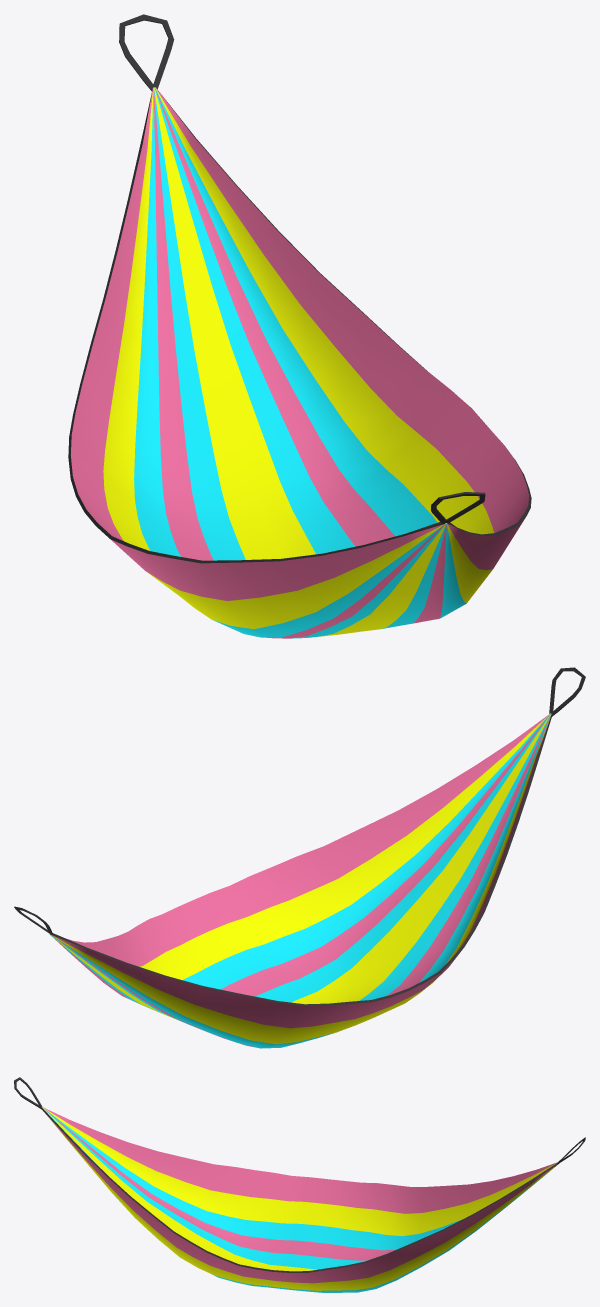
The model's file is bsp0Uzr6cSI.glb.
3 views of the same model, one above another, from view 1: azimuth 30°, elevation 25°; view 2: azimuth 150°, elevation 25°; view 3: azimuth 270°, elevation 25° (orthographic). The views are drawn at different scales.
Parts seen in each view (by area): view 1: Plane004; view 2: Plane004; view 3: Plane004.
Part boxes in pixels (x1=…): Plane004: x1=68, y1=14, x2=531, y2=638; Plane004: x1=14, y1=667, x2=585, y2=1048; Plane004: x1=14, y1=1077, x2=585, y2=1292.
Bounding box in the file's own units: 1.23 × 1 × 3.05.
